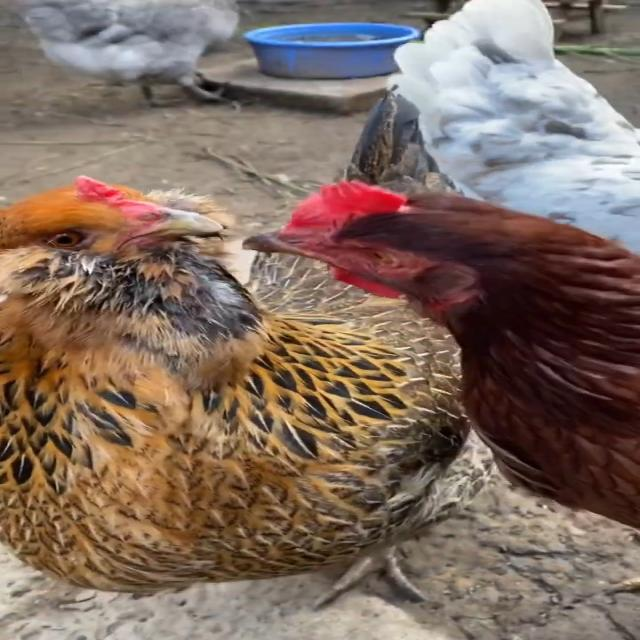allo preening: (3, 172, 640, 600)
